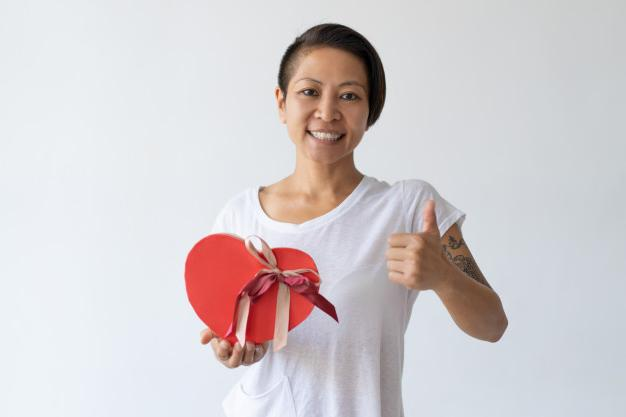thumbsup: (386, 199, 438, 289)
